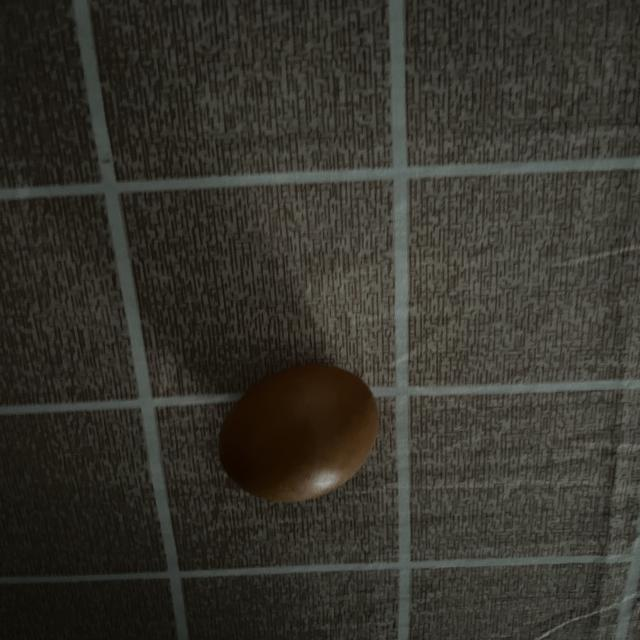Egg: (203, 352, 392, 509)
